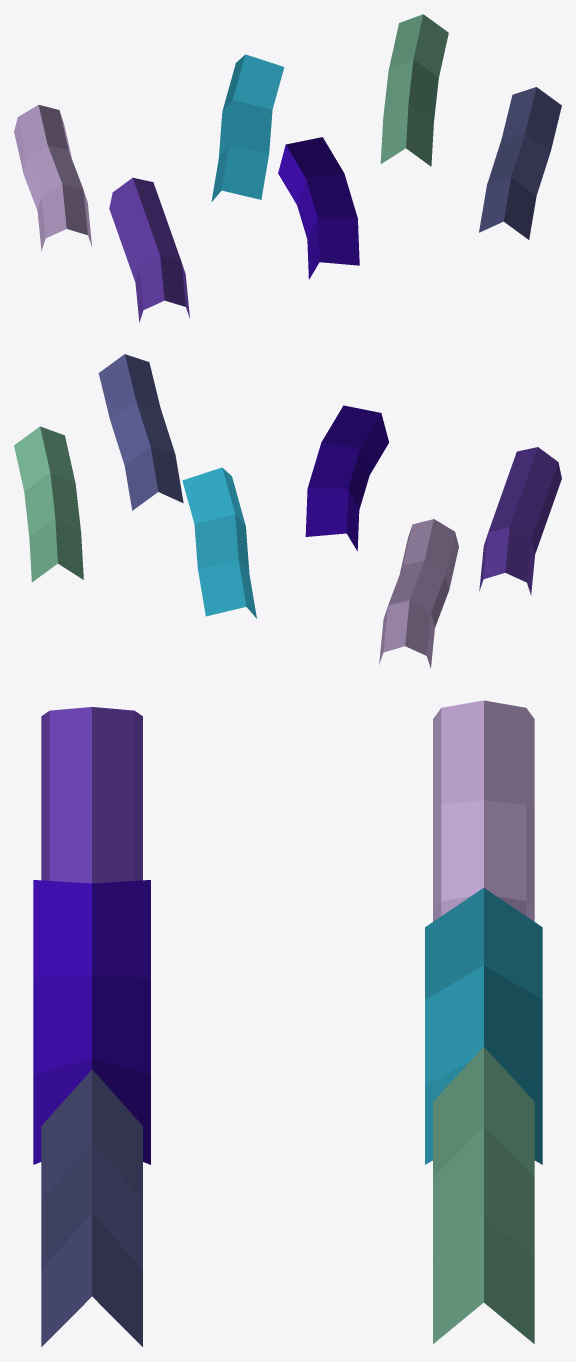
File: phong_flat_mats_2_PolyLineTest_2023-06-04-21-23-00.gltf
3 views of the same model, one above another, from view 1: azimuth 30°, elevation 25°; view 2: azimuth 150°, elevation 25°; view 3: azimuth 270°, elevation 25° (orthographic). The views are drawn at different scales.
Bounding box in the file's own units: 519 × 162 × 260.
